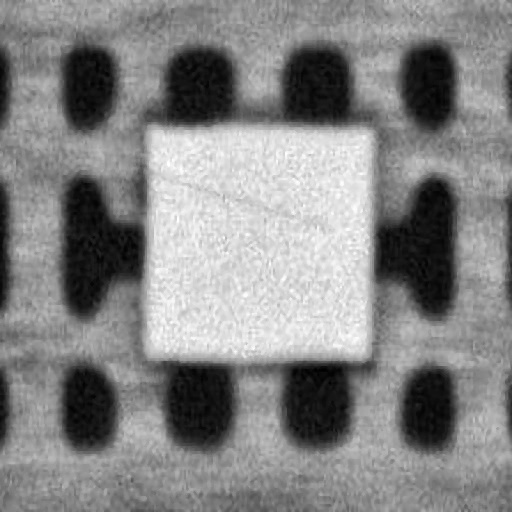DIE_CRACK: (220, 114, 496, 150)
